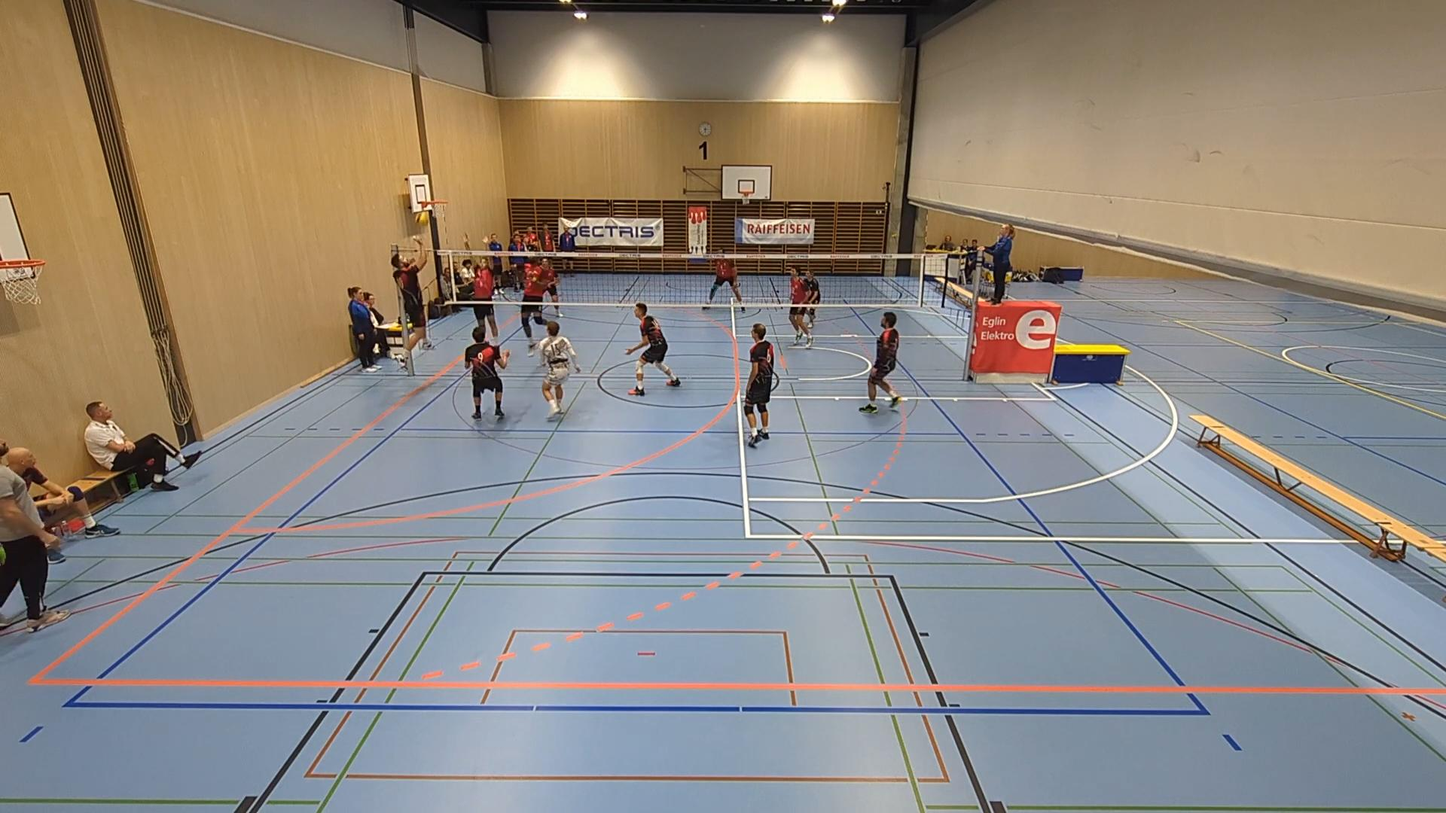Attack: (382, 243, 436, 363)
Block: (456, 230, 500, 348), (513, 240, 552, 350)
Player: (626, 303, 680, 396), (859, 312, 901, 413), (464, 326, 509, 419), (538, 321, 580, 419), (743, 324, 773, 447), (788, 266, 812, 346), (705, 259, 741, 306), (804, 269, 820, 345), (541, 258, 561, 317)
ball: (412, 210, 430, 222)
